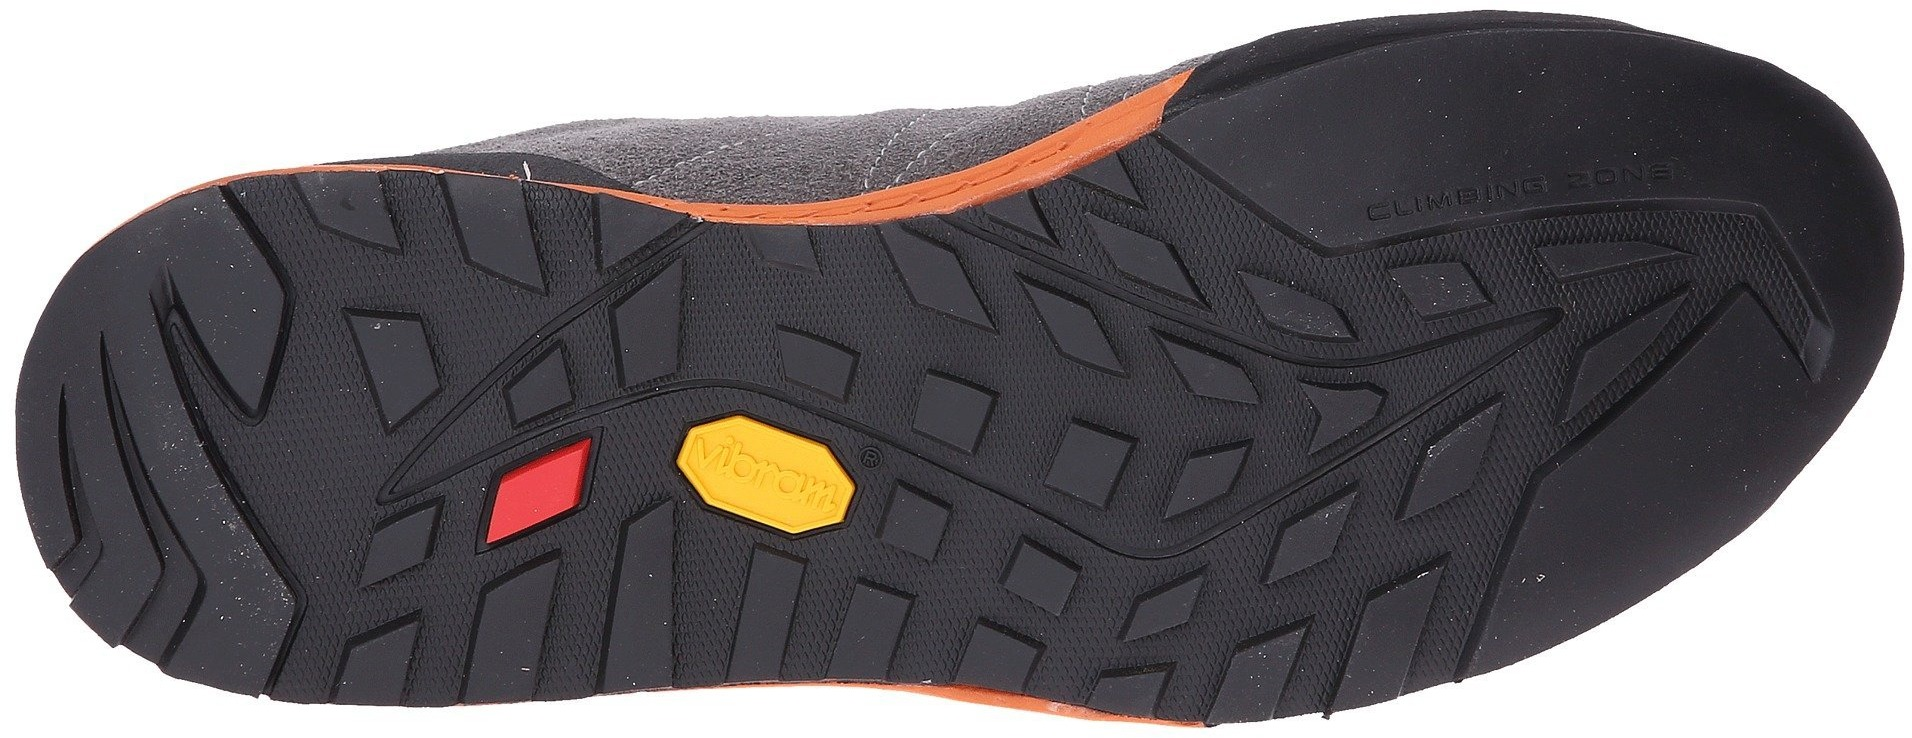chevron: (67, 476, 301, 715)
circle: (1558, 133, 1675, 227)
line: (876, 246, 1206, 556), (1224, 271, 1490, 556), (330, 192, 578, 442), (761, 305, 872, 410), (1558, 133, 1675, 227), (1367, 170, 1482, 253)
other: (1497, 39, 1629, 162), (1653, 384, 1775, 505), (1285, 89, 1421, 179)
quad: (876, 246, 1206, 556), (1224, 271, 1490, 556), (330, 192, 578, 442), (338, 473, 555, 693), (728, 529, 928, 697), (1229, 568, 1427, 709), (1511, 221, 1700, 296), (1207, 611, 1313, 737), (761, 305, 872, 410)
text: (1558, 133, 1675, 227), (699, 434, 817, 521), (1367, 170, 1482, 253)
